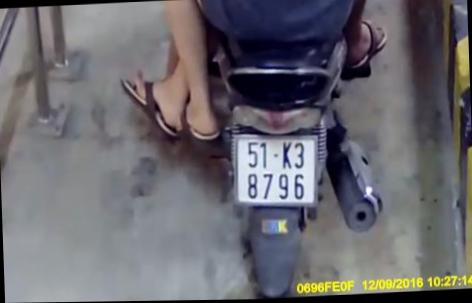LP: (231, 131, 322, 211)
